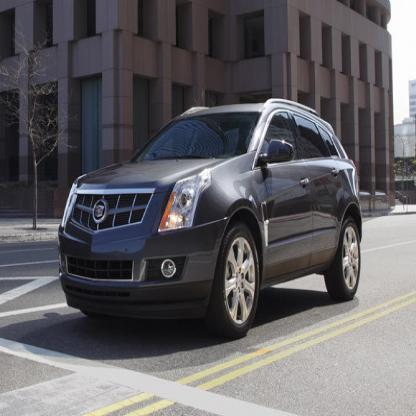Vehicle: (56, 100, 365, 344)
